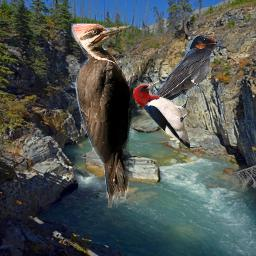Swallow: (138, 35, 223, 110)
Woodpecker: (71, 23, 153, 208), (132, 80, 190, 149)
